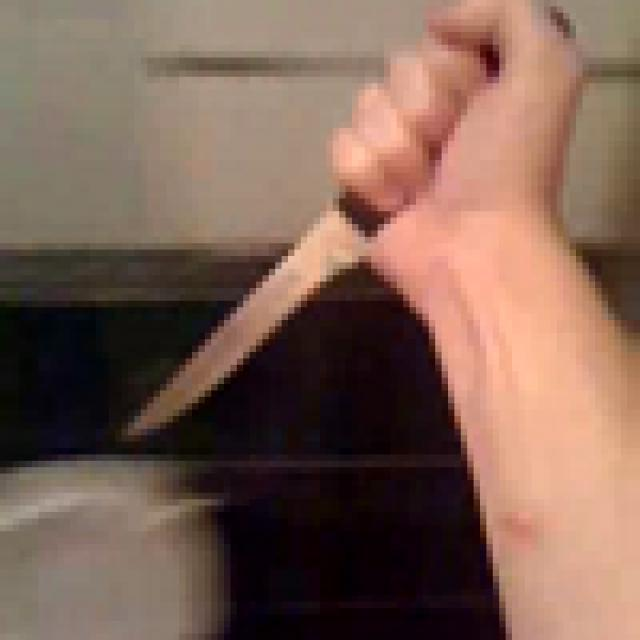Knife: (115, 0, 582, 448)
